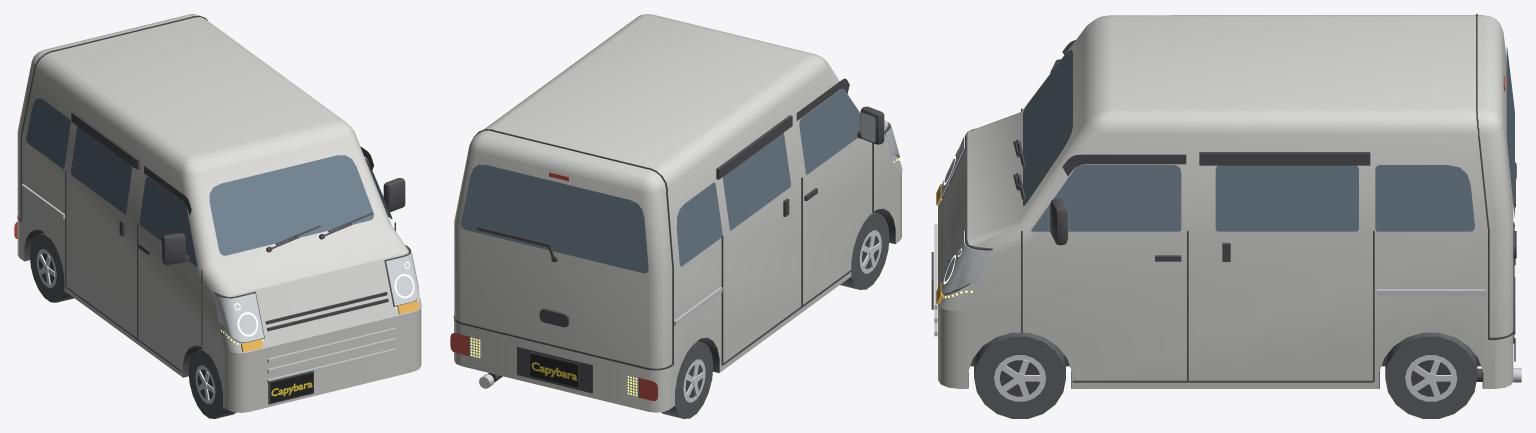
File: van.glb
3 renders of one model, left to right at view 1: azimuth 30°, elevation 25°; view 2: azimuth 150°, elevation 25°; view 3: azimuth 270°, elevation 25°, orthographic. The views are drawn at different scales.
Parts seen in each view (by area): view 1: Body, Glass, Bumper_F_Std, Trim, Wheel_Std_FR, Wheel_Std_RR, Lamp_Head_R, Mirror_Covers, Lamp_Head_L, Plate_F; view 2: Body, Glass, Bumper_R_Std, Trim, Wheel_Std_RR, Wheel_Std_FR, Plate_R, Bumper_F_Std, Mirror_Covers, Handle_Rear; view 3: Body, Glass, Trim, Wheel_Std_RL, Wheel_Std_FL, Bumper_F_Std, Lamp_Head_L, Bumper_R_Std, Mirror_Covers.
Boxes of the visible parts, x1=… form: Body: x1=17, y1=14, x2=421, y2=390; Glass: x1=26, y1=98, x2=392, y2=266; Bumper_F_Std: x1=222, y1=308, x2=421, y2=412; Trim: x1=17, y1=15, x2=417, y2=372; Wheel_Std_FR: x1=188, y1=349, x2=235, y2=418; Wheel_Std_RR: x1=29, y1=232, x2=73, y2=302; Lamp_Head_R: x1=213, y1=293, x2=264, y2=342; Mirror_Covers: x1=162, y1=178, x2=405, y2=264; Lamp_Head_L: x1=386, y1=250, x2=419, y2=305; Plate_F: x1=268, y1=370, x2=313, y2=404; Body: x1=454, y1=14, x2=902, y2=408; Glass: x1=461, y1=89, x2=860, y2=273; Bumper_R_Std: x1=454, y1=320, x2=669, y2=412; Trim: x1=453, y1=78, x2=899, y2=397; Wheel_Std_RR: x1=661, y1=341, x2=713, y2=418; Wheel_Std_FR: x1=840, y1=212, x2=889, y2=289; Plate_R: x1=529, y1=352, x2=579, y2=388; Bumper_F_Std: x1=888, y1=173, x2=901, y2=243; Mirror_Covers: x1=860, y1=106, x2=884, y2=144; Handle_Rear: x1=539, y1=308, x2=569, y2=327; Body: x1=938, y1=15, x2=1513, y2=388; Glass: x1=1023, y1=47, x2=1514, y2=231; Trim: x1=942, y1=14, x2=1515, y2=382; Wheel_Std_RL: x1=1385, y1=332, x2=1477, y2=418; Wheel_Std_FL: x1=974, y1=332, x2=1065, y2=418; Bumper_F_Std: x1=934, y1=224, x2=968, y2=388; Lamp_Head_L: x1=941, y1=230, x2=992, y2=293; Bumper_R_Std: x1=1495, y1=333, x2=1514, y2=388; Mirror_Covers: x1=1050, y1=59, x2=1067, y2=245.
Bounding box in the file's own units: 2.2 × 2.01 × 3.59.
14 materials, 1 textured.
